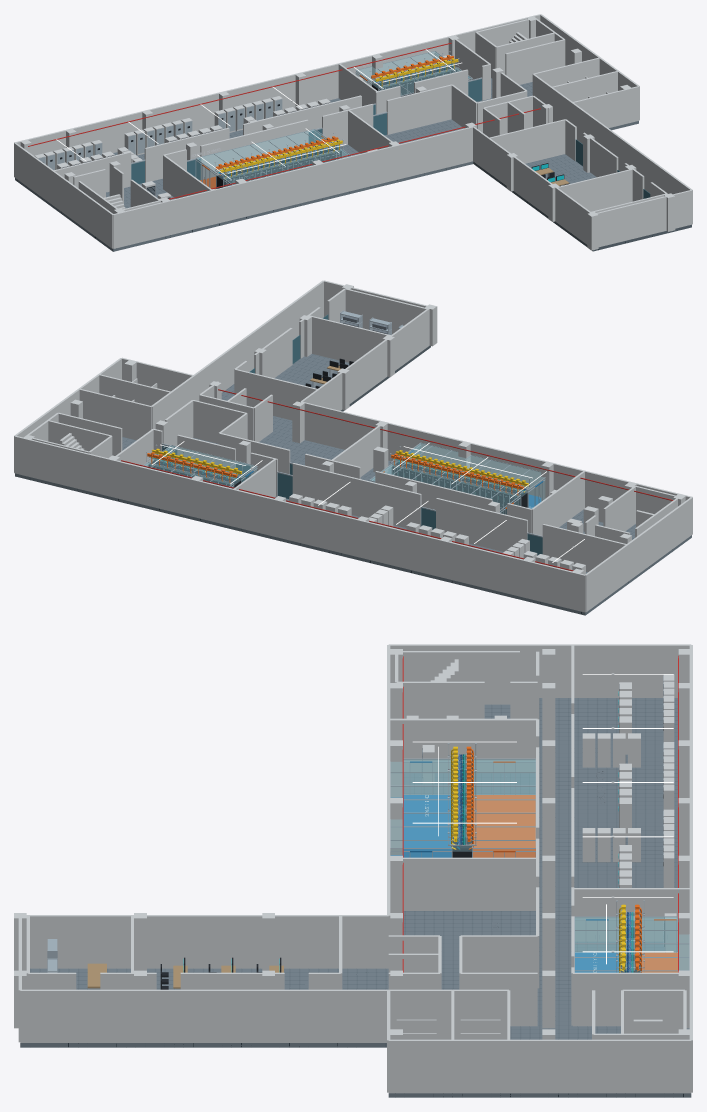
3 views of the same model, one above another, from view 1: azimuth 30°, elevation 25°; view 2: azimuth 150°, elevation 25°; view 3: azimuth 270°, elevation 25° (orthographic). The views are drawn at different scales.
Visible parts, largest first — view 1: Wall | DXF traced, Wall | DXF traced.003, Wall | DXF traced.005, Wall | DXF traced.004, North wing floor, Wall | DXF traced.006, Wall | DXF traced.019, Wall | DXF traced.007, Wall | DXF traced.022, Wall | DXF traced.050, Wall | DXF traced.051, Wall | DXF traced.035 (+42 smaller); view 2: Wall | DXF traced.003, Wall | DXF traced, North wing floor, Wall | DXF traced.004, Wall | DXF traced.010, Wall | DXF traced.005, Wall | DXF traced.007, Wall | DXF traced.009, Wall | DXF traced.051, Wall | DXF traced.038, Wall | DXF traced.008, Wall | DXF traced.050 (+33 smaller); view 3: North wing floor, Wall | DXF traced.007, Wall | DXF traced.005, Wall | DXF traced.002, Wall | DXF traced.004, Wall | DXF traced.017, Wall | DXF traced.016, Containment B | HOT glass roof, OP and maintenance wing, Containment B | COLD glass roof, Wall | DXF traced.014, Wall | DXF traced.037 (+34 smaller).
Boxes of the visible parts, box(x1,y1,x2,y2) form: Wall | DXF traced: box(113, 126, 473, 248); Wall | DXF traced.003: box(14, 14, 540, 155); Wall | DXF traced.005: box(473, 126, 592, 244); Wall | DXF traced.004: box(14, 143, 113, 248); North wing floor: box(15, 78, 638, 251); Wall | DXF traced.006: box(593, 190, 692, 247); Wall | DXF traced.019: box(200, 119, 308, 179); Wall | DXF traced.007: box(571, 102, 692, 223); Wall | DXF traced.022: box(386, 84, 452, 134); Wall | DXF traced.050: box(489, 119, 565, 163); Wall | DXF traced.051: box(557, 168, 632, 211); Wall | DXF traced.035: box(505, 39, 564, 84); Wall | DXF traced.003: box(14, 436, 585, 612); Wall | DXF traced: box(301, 401, 692, 508); North wing floor: box(15, 432, 691, 615); Wall | DXF traced.004: box(585, 497, 692, 612); Wall | DXF traced.010: box(292, 463, 421, 527); Wall | DXF traced.005: box(300, 307, 431, 410); Wall | DXF traced.007: box(194, 280, 323, 400); Wall | DXF traced.009: box(436, 498, 527, 551); Wall | DXF traced.051: box(309, 315, 390, 362); Wall | DXF traced.038: box(79, 388, 151, 440); Wall | DXF traced.008: box(542, 524, 626, 572); Wall | DXF traced.050: box(234, 369, 318, 420); North wing floor: box(388, 698, 691, 1097); Wall | DXF traced.007: box(20, 989, 388, 1042); Wall | DXF traced.005: box(20, 915, 388, 968); Wall | DXF traced.002: box(388, 1039, 691, 1093); Wall | DXF traced.004: box(388, 644, 691, 697); Wall | DXF traced.017: box(389, 857, 537, 910); Wall | DXF traced.016: box(390, 718, 537, 771); Containment B | HOT glass roof: box(473, 759, 535, 847); OP and maintenance wing: box(20, 968, 388, 1047); Containment B | COLD glass roof: box(391, 759, 451, 847); Wall | DXF traced.014: box(573, 888, 690, 941); Wall | DXF traced.037: box(388, 989, 508, 1039).
Bounding box in the file's own units: 58.6 × 3.95 × 42.4.
23 materials, 1 textured.
